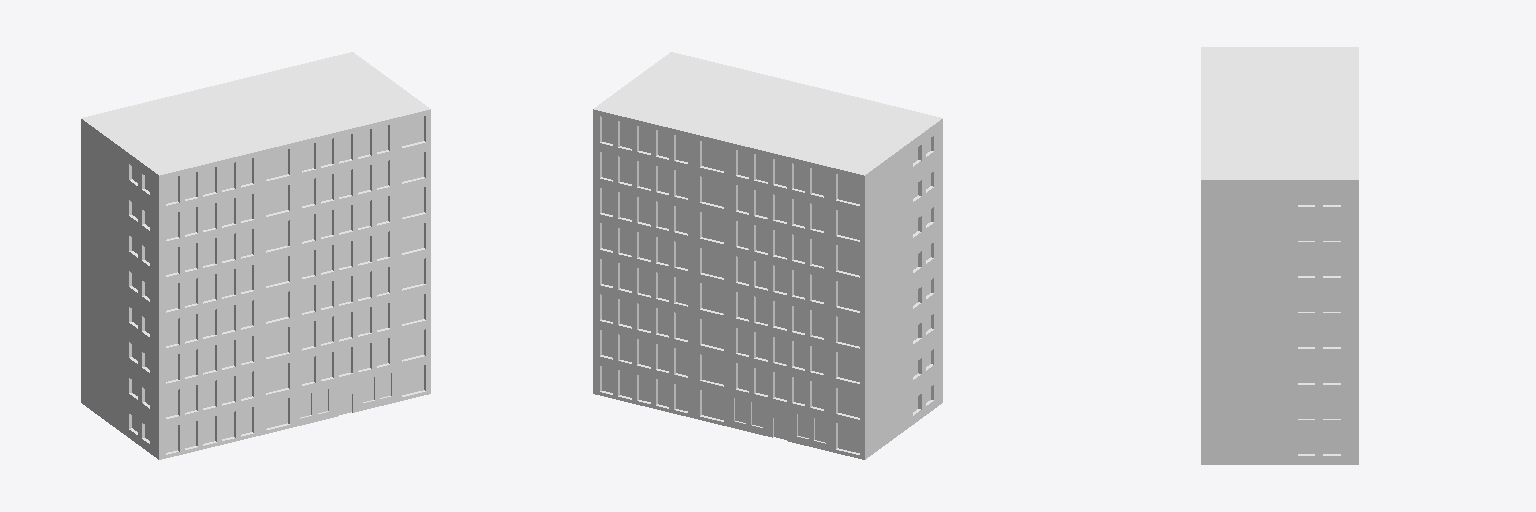
The model's file is Buildings_01-9.obj.
3 renders of one model, left to right at view 1: azimuth 30°, elevation 25°; view 2: azimuth 150°, elevation 25°; view 3: azimuth 270°, elevation 25°, orthographic.
Visible parts, largest first — view 1: object 1; view 2: object 1; view 3: object 1.
Boxes of the visible parts, box(x1,y1,x2,y2) form: object 1: box(81, 52, 430, 459); object 1: box(593, 52, 942, 459); object 1: box(1201, 47, 1358, 464).
Bounding box in the file's own units: 16 × 16 × 8.